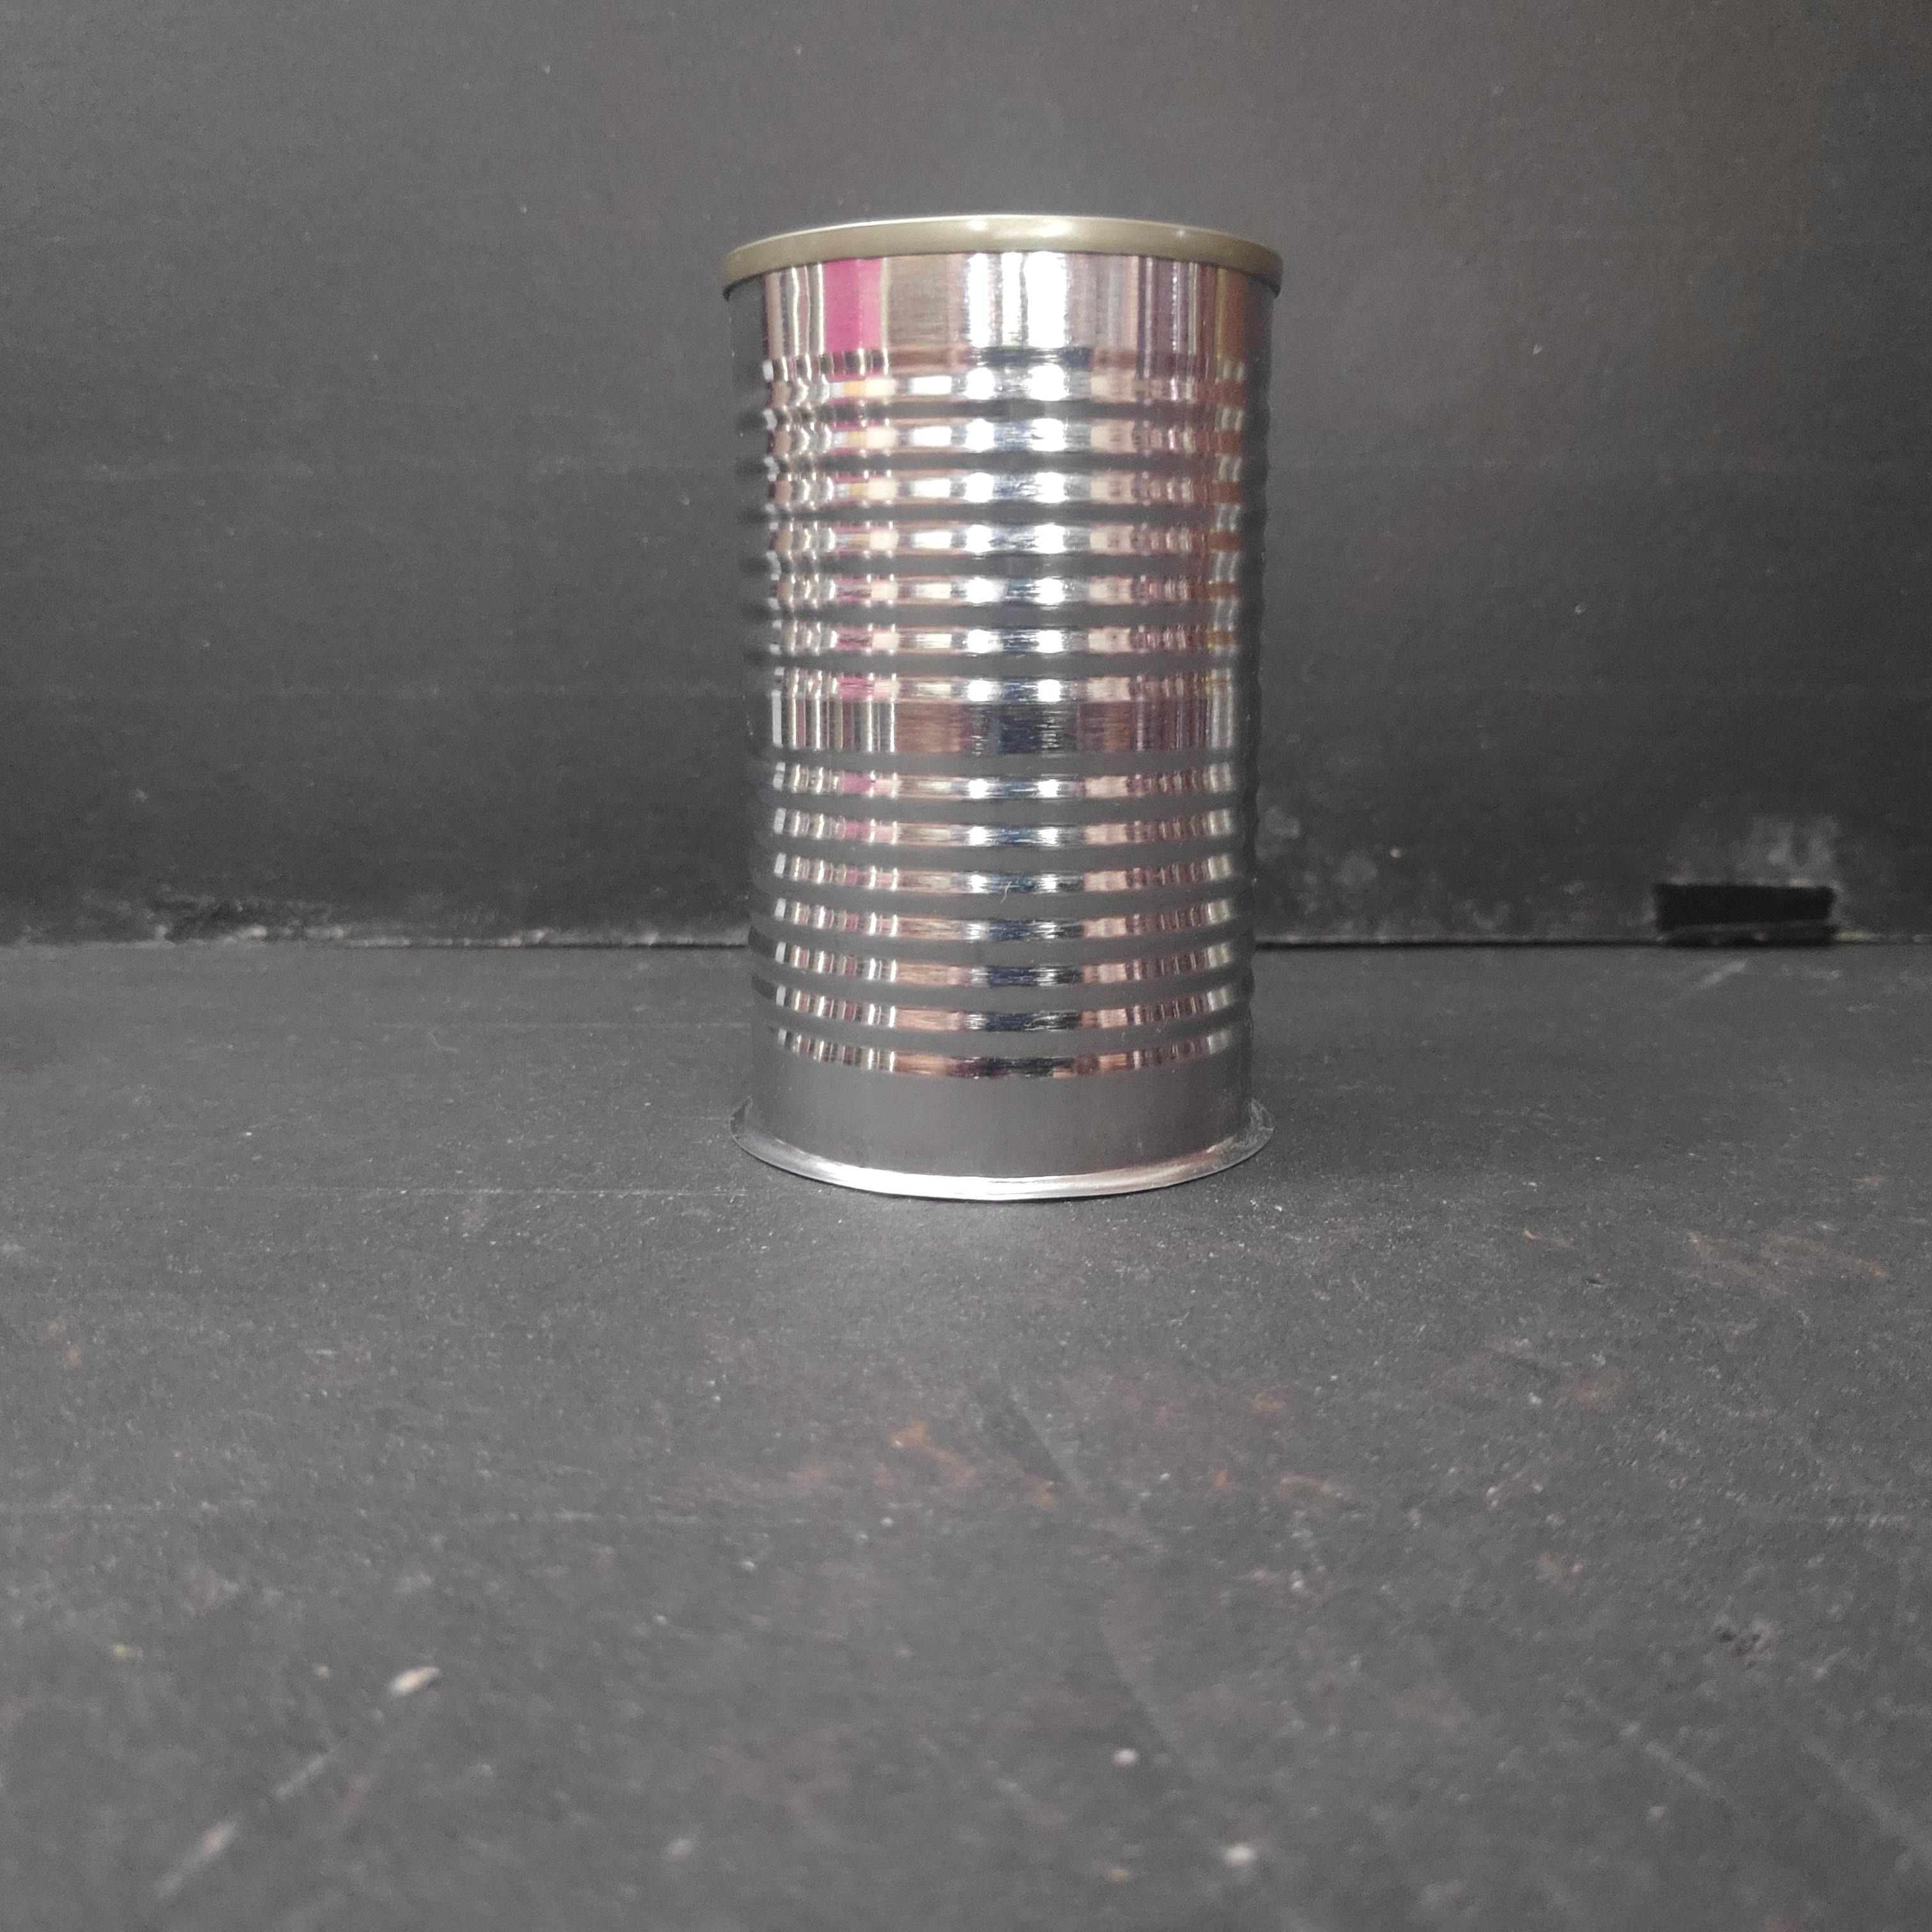No defect: (708, 202, 1290, 1212)
